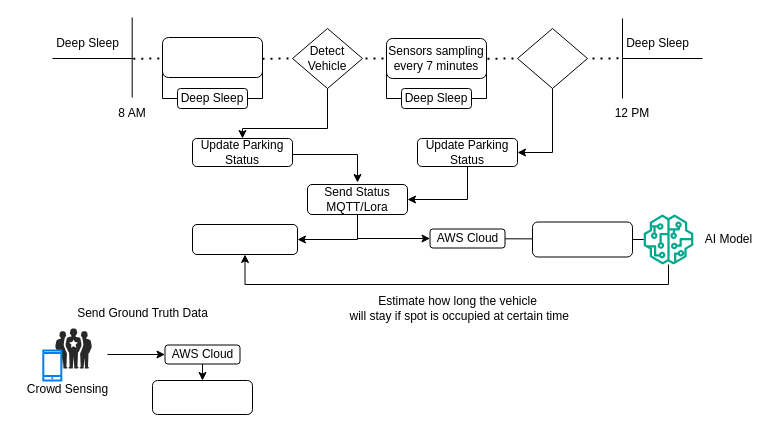
Image size: 780x432. Some labels were removed from this diagram. Here are the shapes that lost their labels. From the top down, the centre of each, then its label:
At (x=212, y=57): "Sensors sampling every 2 minutes".
At (x=552, y=58): "No Vehicle".
At (x=245, y=239): "Update Application UI".
At (x=582, y=239): "Append data to dataset for ML".
At (x=202, y=397): "Compute Sensor Accuracy".
